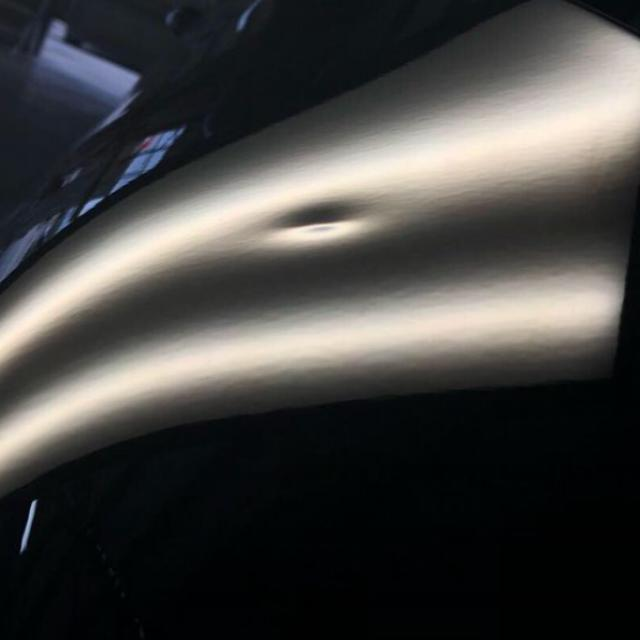dents: (241, 161, 458, 305)
